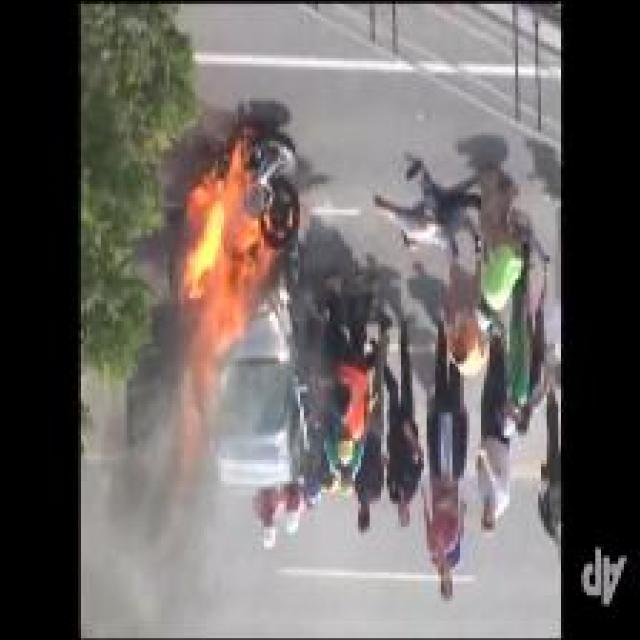Fire: (178, 142, 282, 482)
